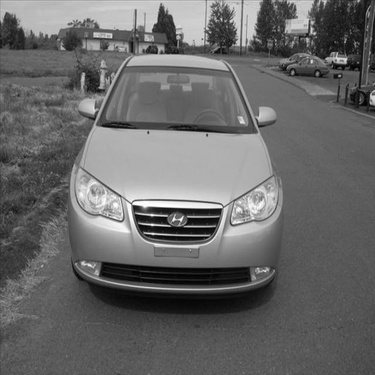car: (62, 46, 285, 317), (284, 52, 332, 79), (346, 79, 373, 108), (347, 47, 373, 71), (284, 54, 318, 71), (323, 49, 350, 68), (279, 50, 314, 64)
